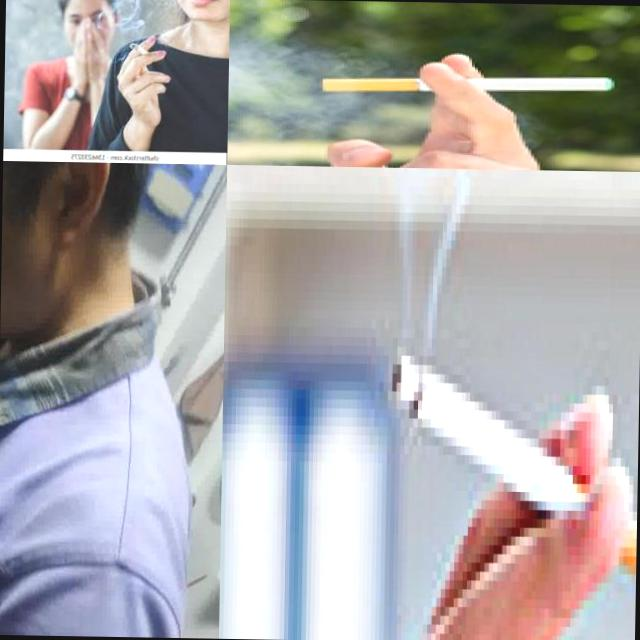smoke: (388, 349, 640, 576), (322, 70, 614, 96), (128, 42, 154, 58)
